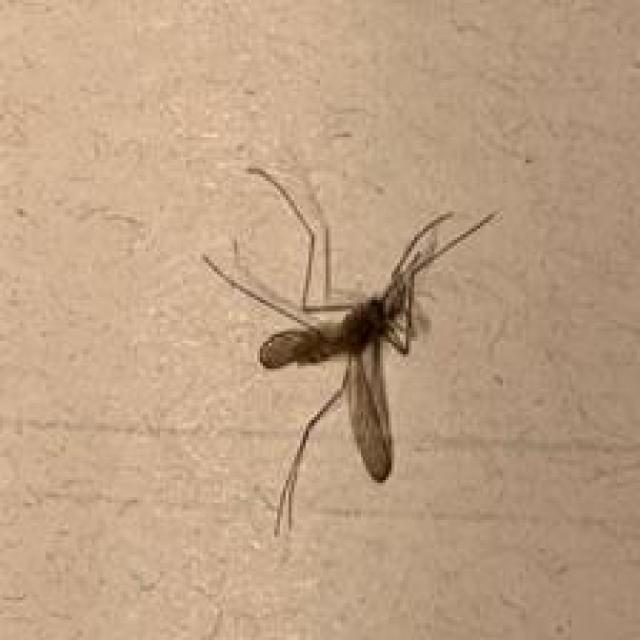Culex: (202, 163, 502, 537)
